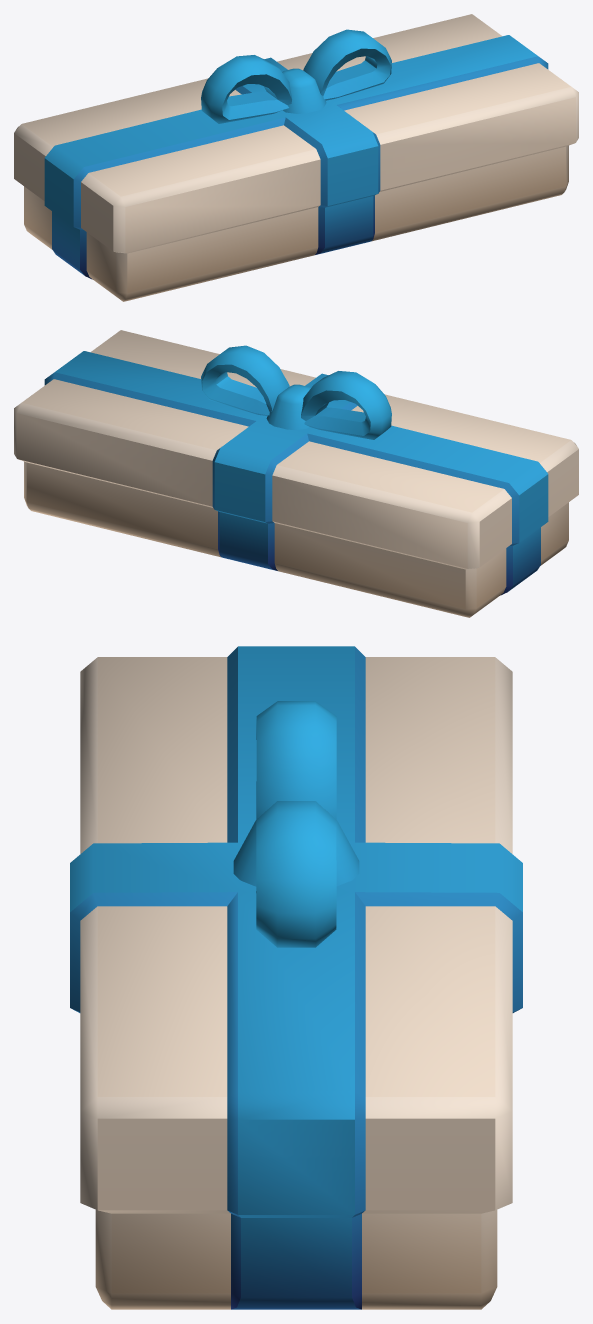
Rendered from present_E_white.fbx.
3 renders of one model, top to bottom at view 1: azimuth 30°, elevation 25°; view 2: azimuth 150°, elevation 25°; view 3: azimuth 270°, elevation 25°, orthographic. The views are drawn at different scales.
Parts seen in each view (by area): view 1: present_E_white; view 2: present_E_white; view 3: present_E_white.
Boxes of the visible parts, x1,y1,x2,y2 form: present_E_white: (14, 14, 578, 301); present_E_white: (14, 330, 578, 617); present_E_white: (70, 646, 522, 1309).
Bounding box in the file's own units: 136 × 46.17 × 56.38.
